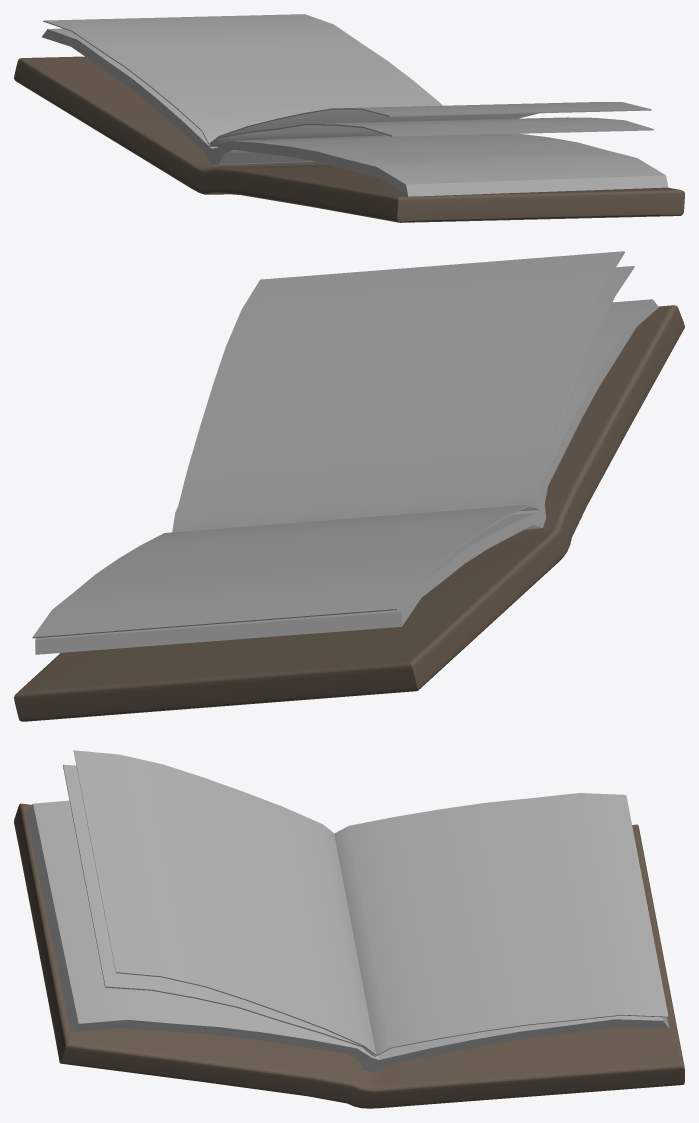
File: OpenBook.fbx
The picture shows the model from 3 angles, top to bottom: view 1: azimuth 30°, elevation 25°; view 2: azimuth 150°, elevation 25°; view 3: azimuth 270°, elevation 25°; orthographic projection. The views are drawn at different scales.
Parts seen in each view (by area): view 1: polySurface24, polySurface22; view 2: polySurface24, polySurface22; view 3: polySurface24, polySurface22.
Boxes of the visible parts, x1,y1,x2,y2 form: polySurface24: (42,14,668,196); polySurface22: (14,56,684,222); polySurface24: (32,251,658,654); polySurface22: (14,305,684,721); polySurface24: (25,750,669,1072); polySurface22: (14,803,684,1108).
Size of the model in its own units: 5.36 by 3.03 by 7.67.
